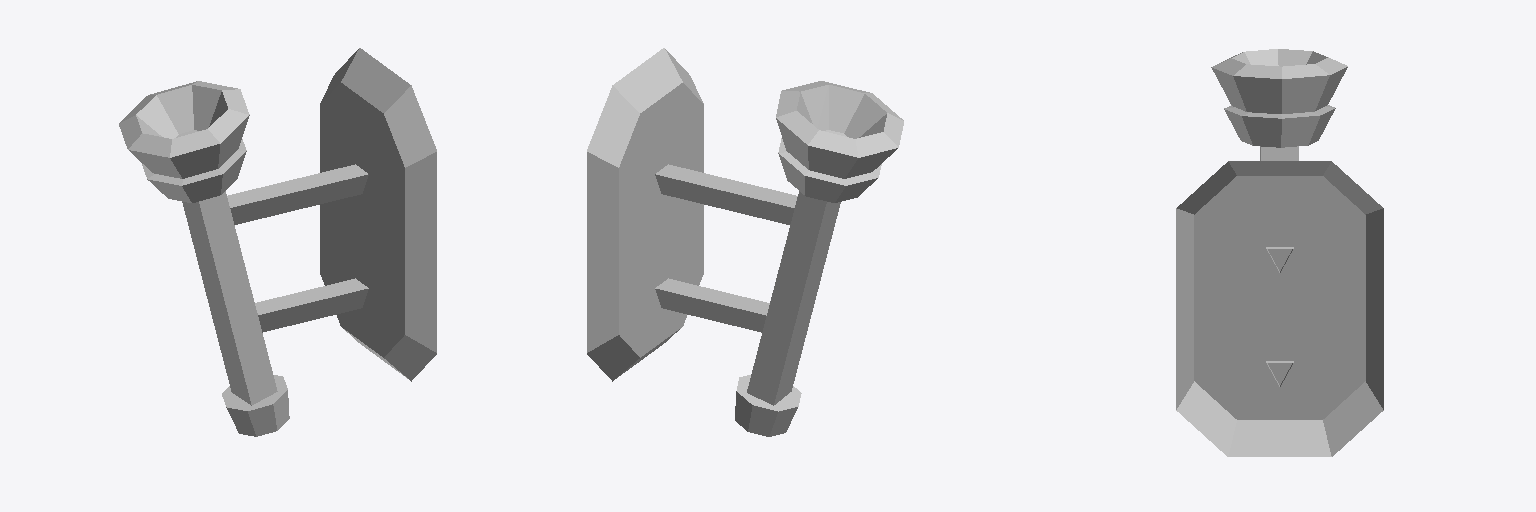
Rendered from Sconce.obj.
3 views of the same model, side by side, from view 1: azimuth 30°, elevation 25°; view 2: azimuth 150°, elevation 25°; view 3: azimuth 270°, elevation 25° (orthographic).
Parts seen in each view (by area): view 1: Torch; view 2: Torch; view 3: Torch.
Boxes of the visible parts, box(x1,y1,x2,y2) form: Torch: box(119, 48, 436, 436); Torch: box(587, 48, 903, 436); Torch: box(1176, 49, 1383, 456).
Size of the model in its own units: 0.2038 by 0.2602 by 0.1413.